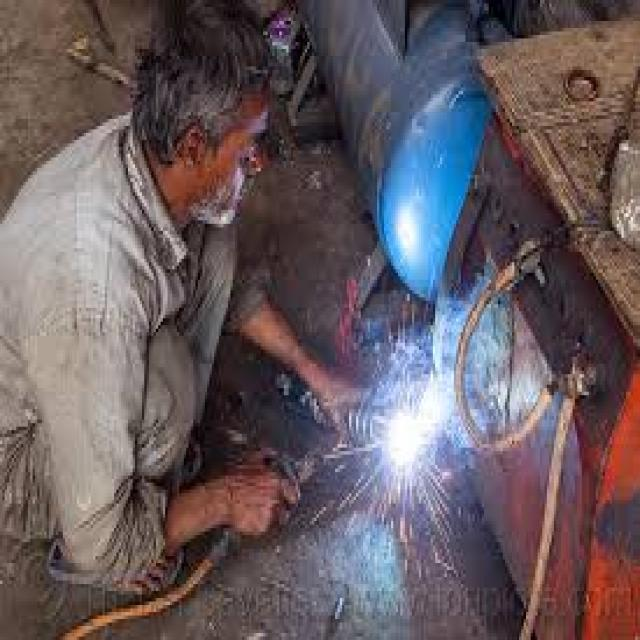without_helmet: (128, 0, 281, 234)
